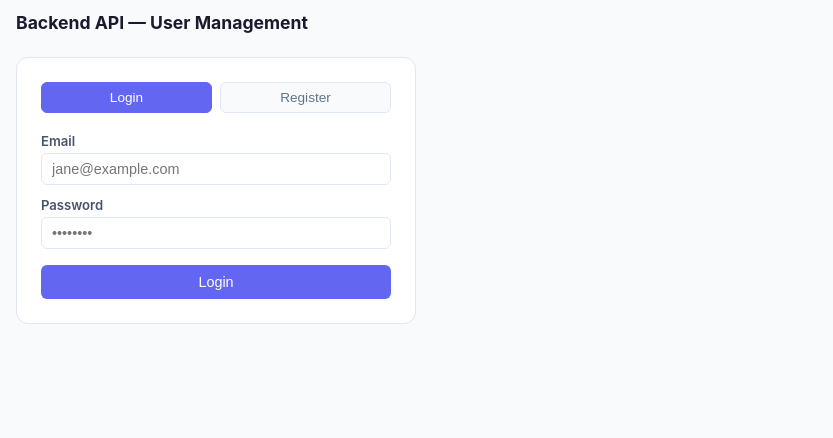
Test: BackendPage — authenticated › shows create form when + Add user is clicked
Type "alice@example.com" into the field with placeholder "jane@example.com" at (216, 169), box [41,153,391,185]
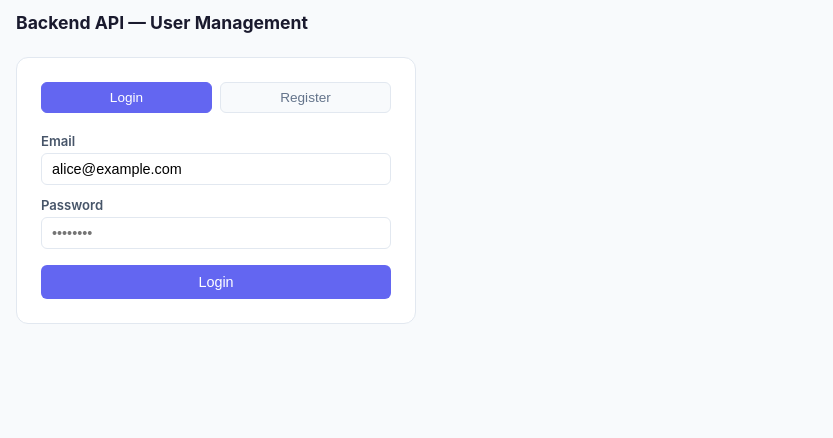
Type "pass" into the password field with placeholder "••••••••" at (216, 233), box [41,217,391,249]
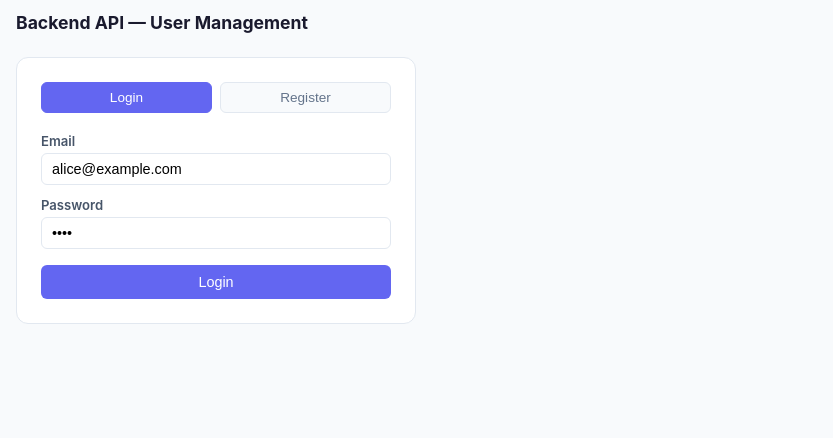
Click the button "Login" below "Password" at (216, 282), box [41,265,391,299]
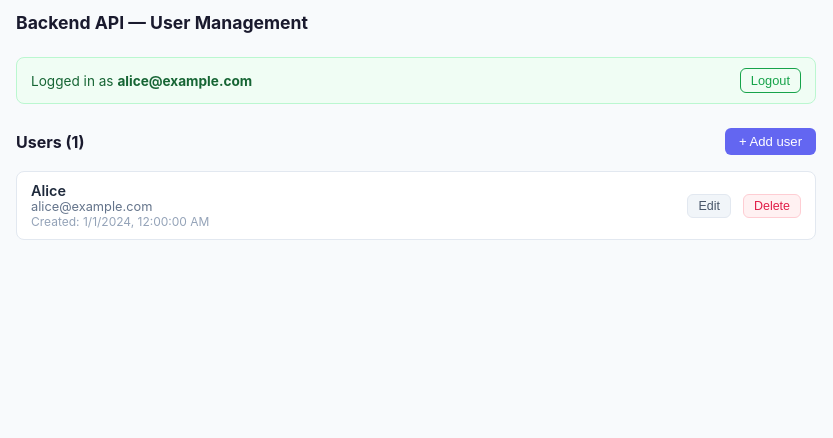
Expected: the text "Alice" is shown, [31,182,66,199]
Click the button "+ Add user" at (770, 142), box [725,128,816,155]
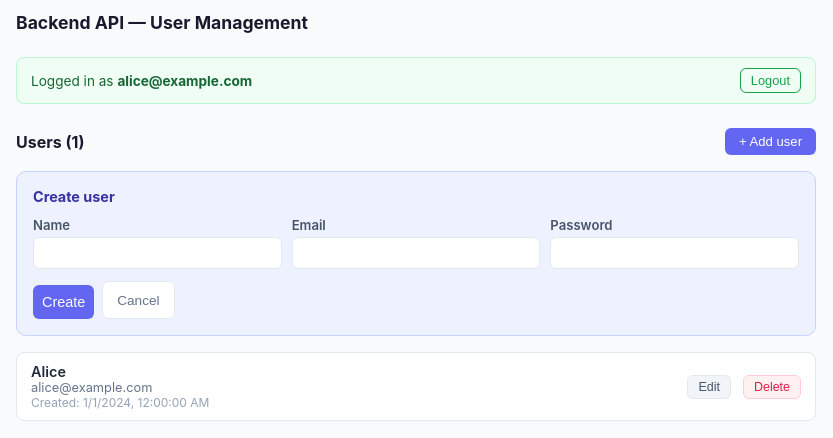
Expected: the heading "Create user" is shown, [33,188,115,205]
